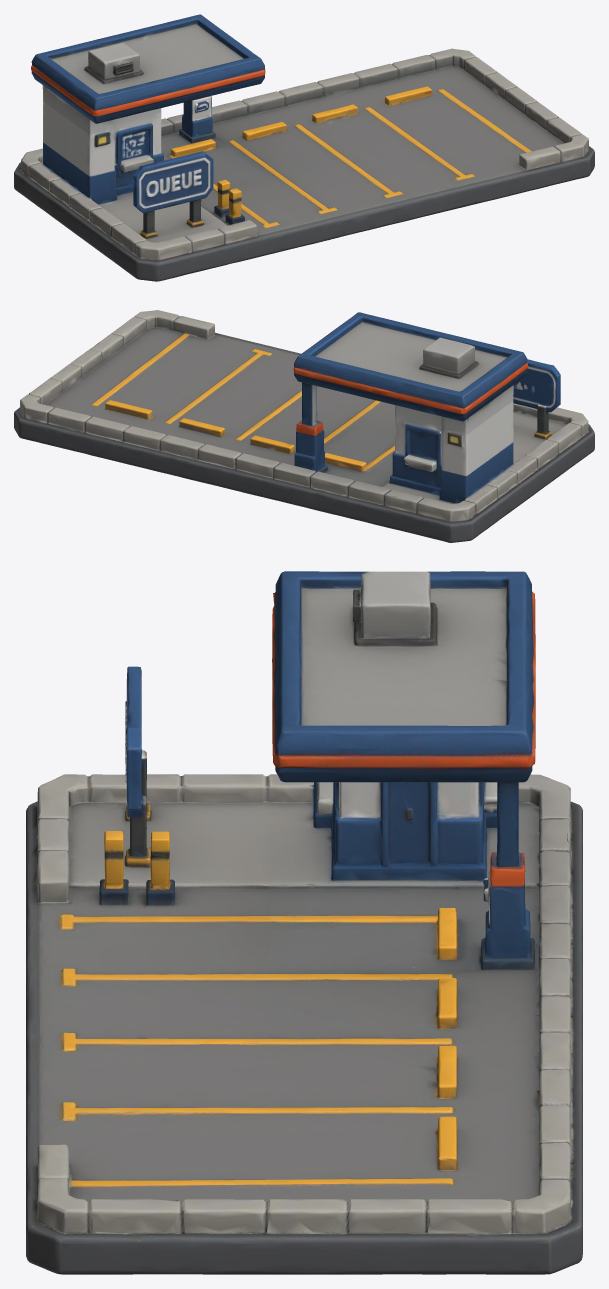
File: customer_queue_1k_real.glb
The picture shows the model from 3 angles, top to bottom: view 1: azimuth 30°, elevation 25°; view 2: azimuth 150°, elevation 25°; view 3: azimuth 270°, elevation 25°; orthographic projection. The views are drawn at different scales.
Visible parts, largest first — view 1: tripo_node_178b817b-dff3-42d2-94e6-320e4e206124; view 2: tripo_node_178b817b-dff3-42d2-94e6-320e4e206124; view 3: tripo_node_178b817b-dff3-42d2-94e6-320e4e206124.
Part boxes in pixels (box(x1,y1,x2,y2)): tripo_node_178b817b-dff3-42d2-94e6-320e4e206124: box(14, 14, 594, 281); tripo_node_178b817b-dff3-42d2-94e6-320e4e206124: box(14, 310, 594, 542); tripo_node_178b817b-dff3-42d2-94e6-320e4e206124: box(26, 571, 582, 1274).
Bounding box in the file's own units: 1 × 0.3147 × 0.526.
Materials: 1 (1 with a texture image).
